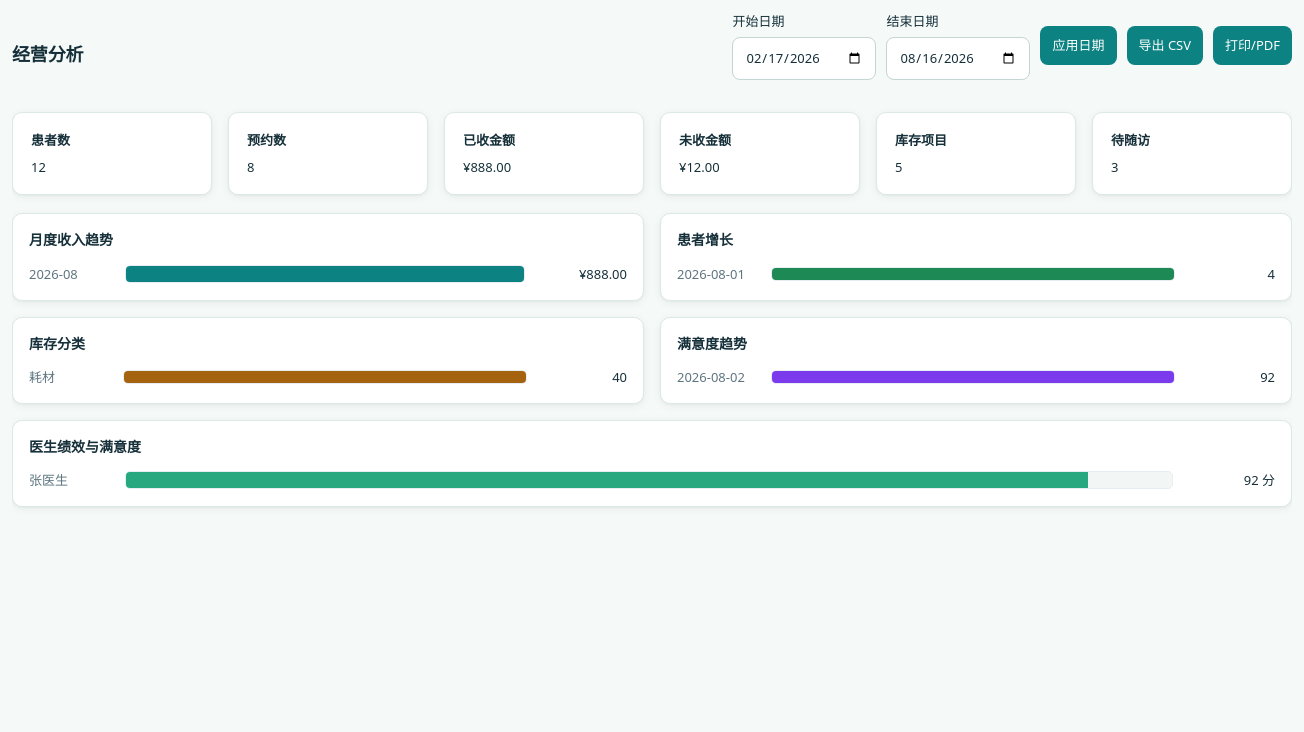
AnalyticsDashboardPage › rejects an invalid date range
Expected: the heading "月度收入趋势" is shown, [29, 230, 113, 249]
Type "2026-09-01" into the date field labelled "开始日期" at (804, 58), box [732, 37, 876, 80]
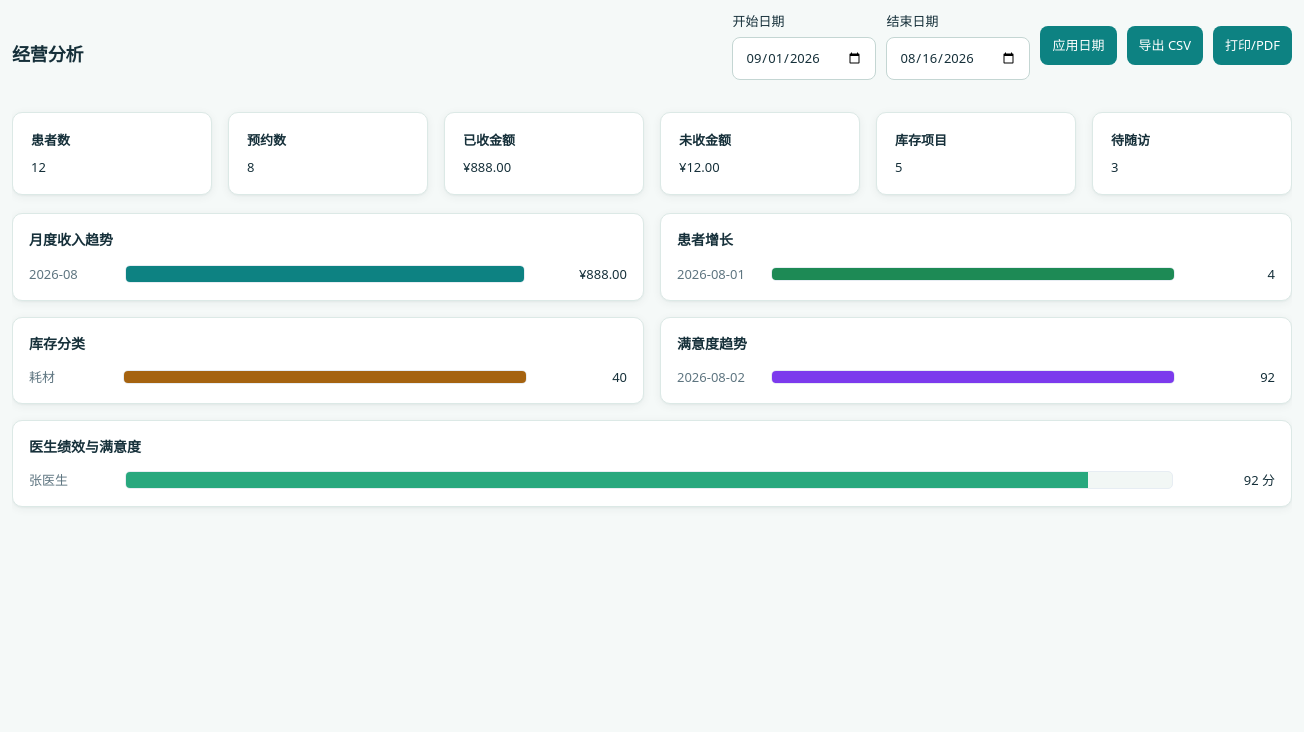
Type "2026-08-01" into the date field labelled "结束日期" at (958, 58), box [886, 37, 1030, 80]
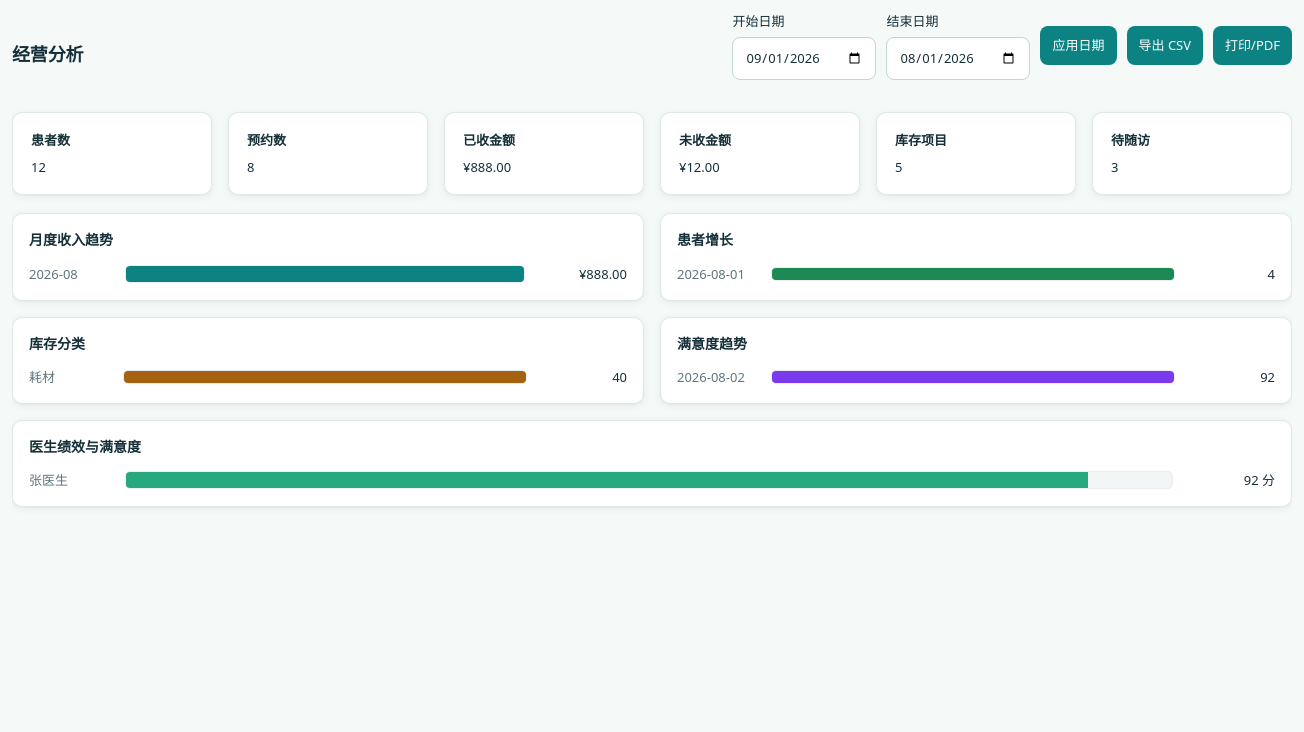
Click the button "应用日期" at (1078, 46), box [1040, 26, 1116, 65]
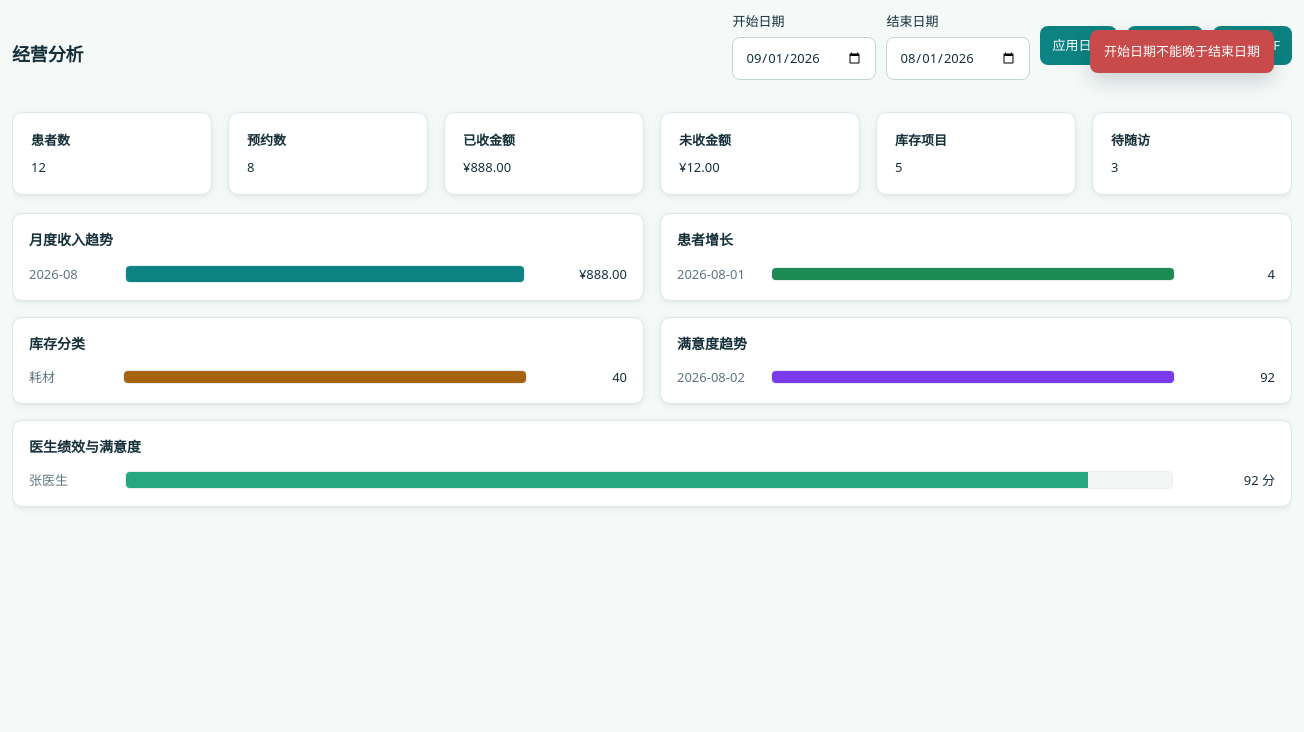
Now the text "开始日期不能晚于结束日期" is shown, box [1090, 30, 1274, 73]
